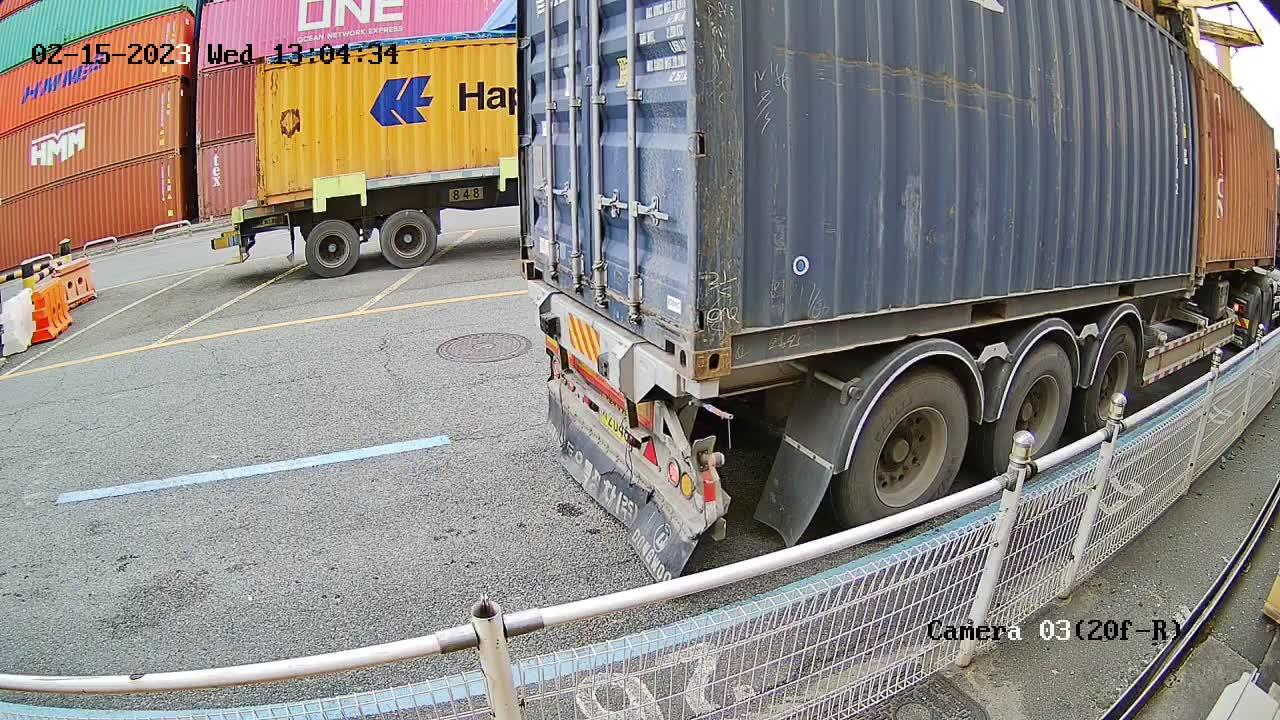Chassis: (528, 283, 698, 403)
Cone: (694, 375, 727, 401)
Hole_L: (695, 298, 772, 379), (518, 233, 553, 293)
Hole_R: (642, 281, 692, 380)
Tire: (848, 375, 971, 523), (994, 349, 1075, 469), (1083, 328, 1137, 428)
